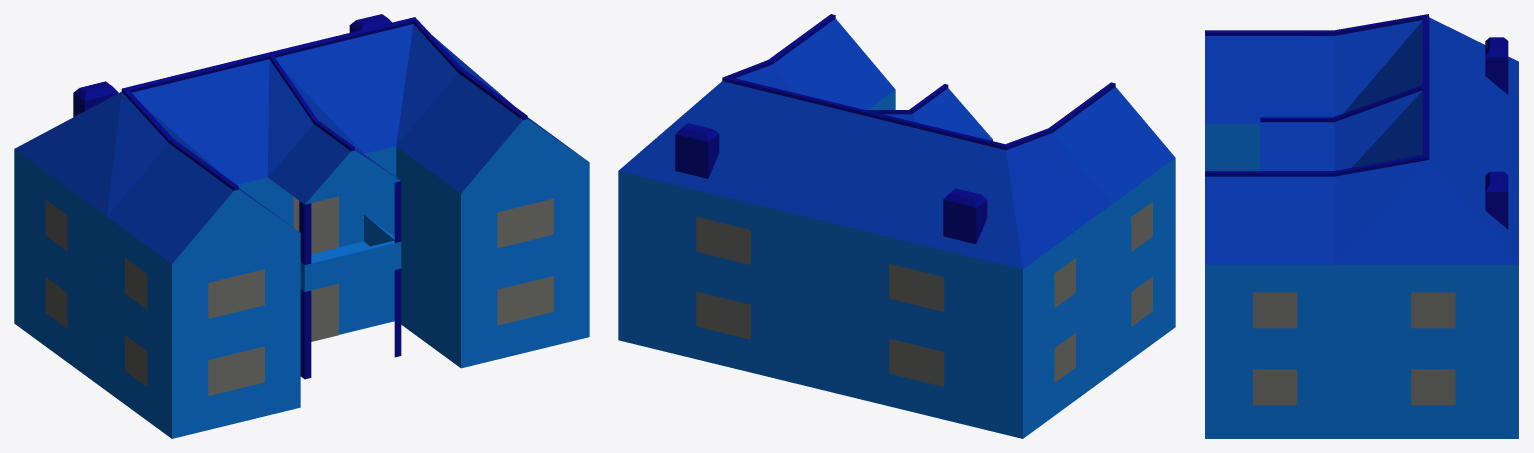
The model's file is House-Snow-L-1.fbx.
3 views of the same model, side by side, from view 1: azimuth 30°, elevation 25°; view 2: azimuth 150°, elevation 25°; view 3: azimuth 270°, elevation 25° (orthographic). The views are drawn at different scales.
Parts seen in each view (by area): view 1: House-Snow-L-1; view 2: House-Snow-L-1; view 3: House-Snow-L-1.
Boxes of the visible parts, bbox=[...] form: House-Snow-L-1: bbox=[14, 14, 589, 438]; House-Snow-L-1: bbox=[618, 14, 1175, 438]; House-Snow-L-1: bbox=[1205, 14, 1518, 438].
Bounding box in the file's own units: 1304 × 753 × 854.
